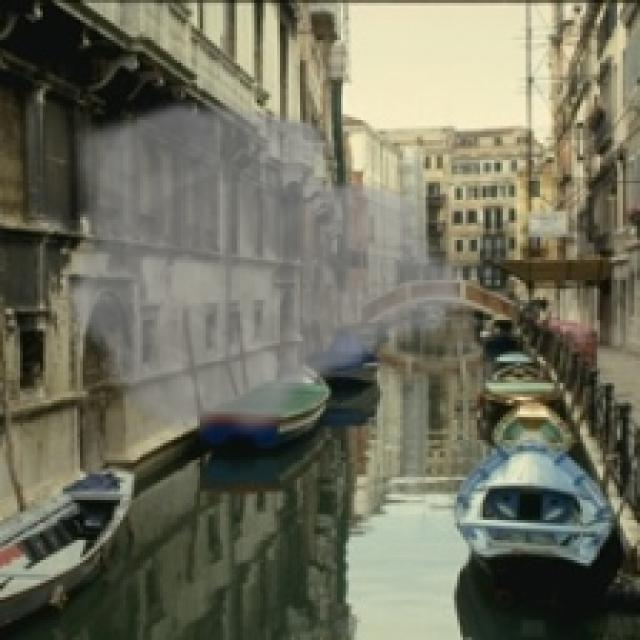smoke: (60, 94, 480, 443)
